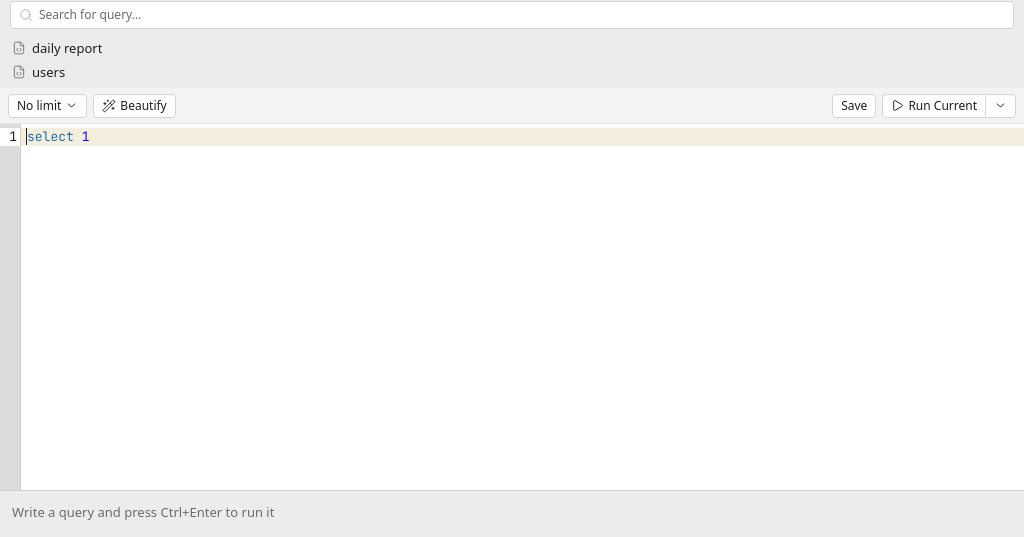
the search box filters the saved queries
Type "DAILY" into the search field named "Search saved queries". click: (522, 15)
box: x1=39 y1=6 x2=1005 y2=24
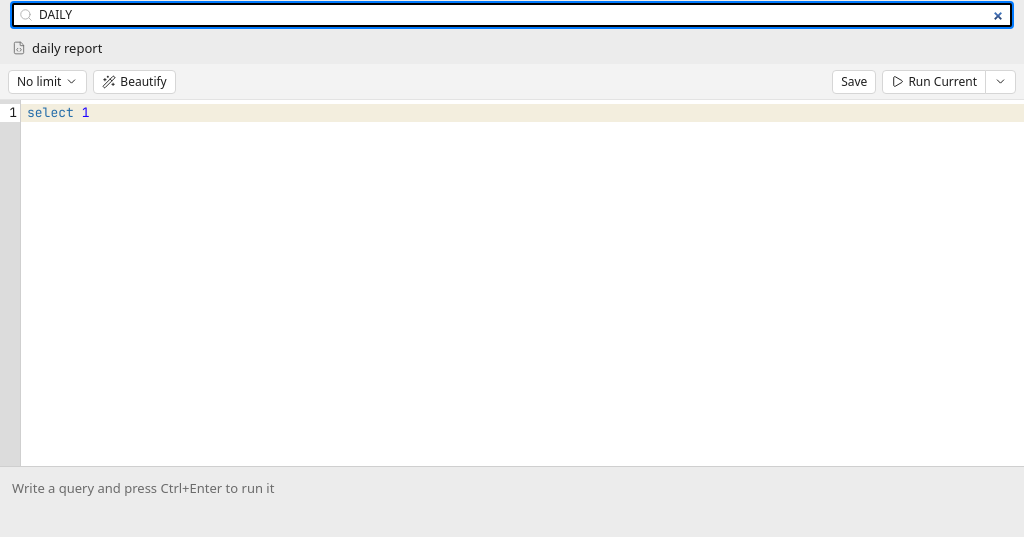
Type "zzz" into the search field named "Search saved queries". click: (522, 15)
box: x1=39 y1=6 x2=1005 y2=24
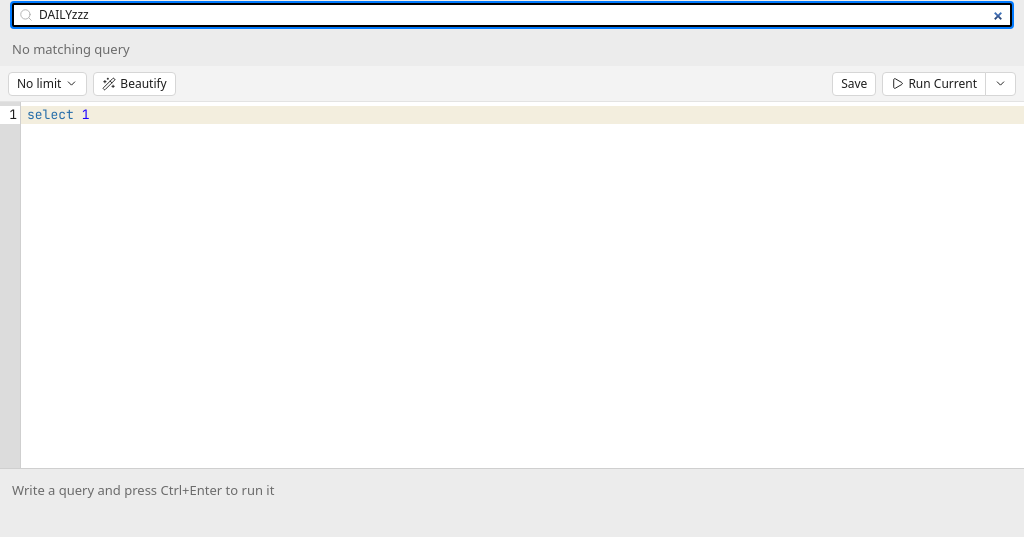
Expected: the text "No matching query" is shown, x1=12 y1=40 x2=130 y2=58
